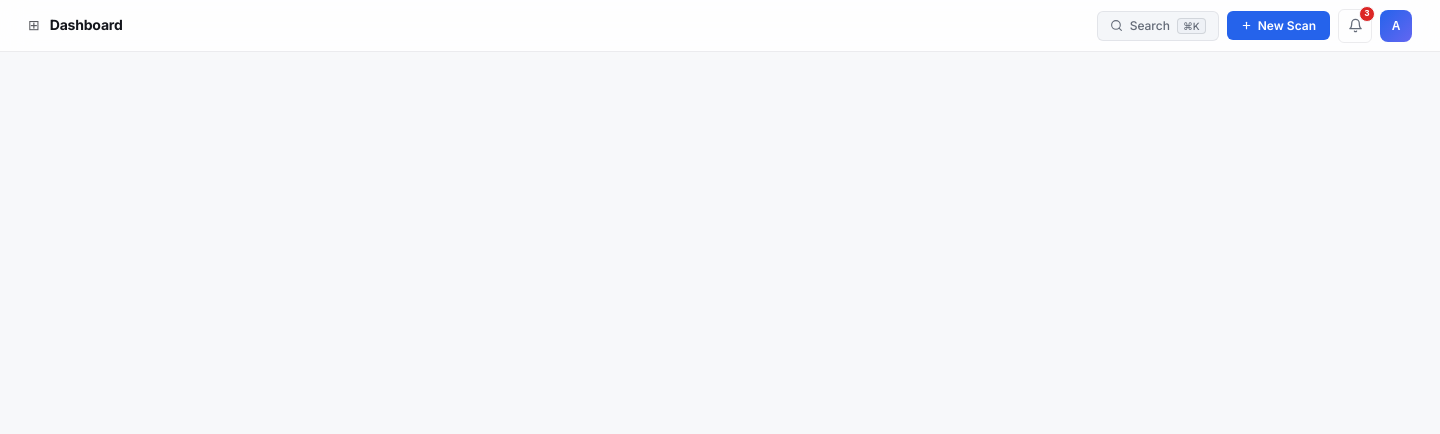
Test case: Clear all clears every notification, not just the last one
Step 1. Click the button named "Notifications, 3 unread" → (1355, 26), box [1338,8,1372,42]
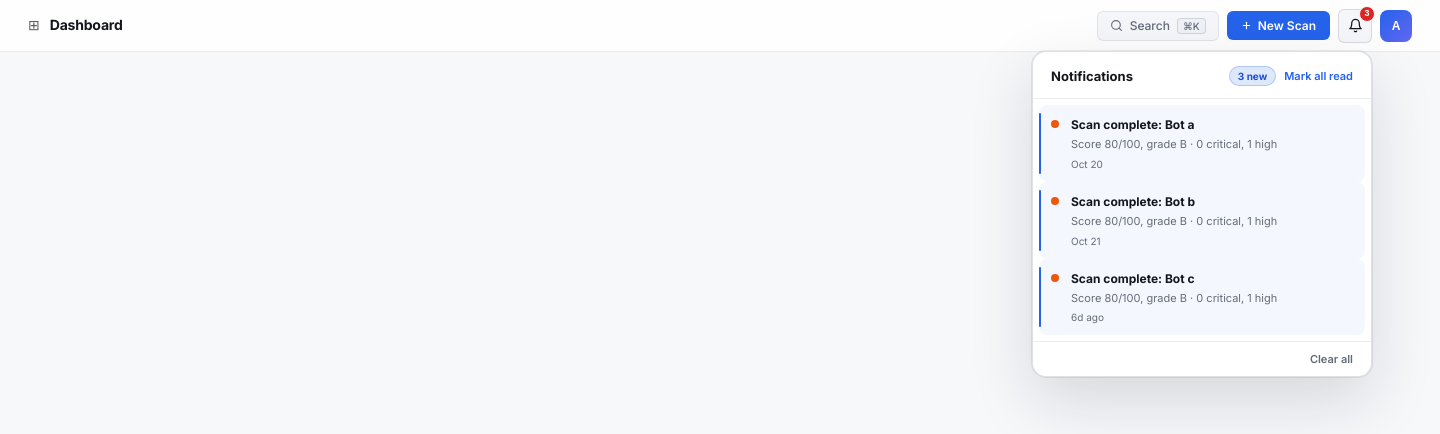
Result: the text "Scan complete: Bot a" is shown 3 times at [1071,115,1194,134]; [1071,192,1195,211]; [1071,269,1194,288]
Step 2. Click the button "Clear all" → (1331, 359), box [1310,352,1353,366]
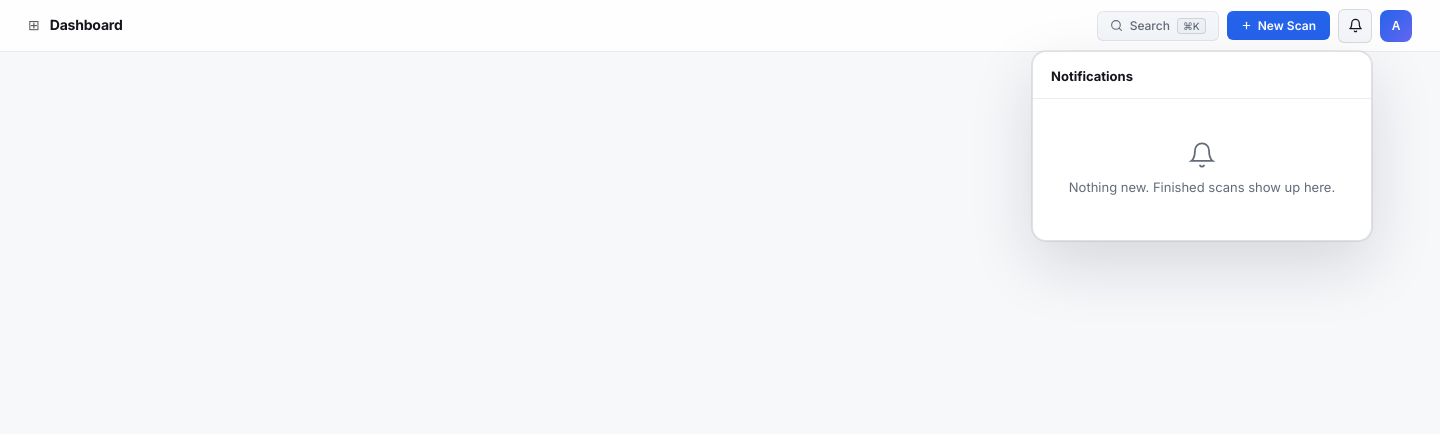
Expected: the button named "Notifications" is shown, [1338,8,1372,42]
Result: no buttons "Scan complete: Bot" are shown
Result: the text "Nothing new. Finished scans show up here." is shown at [1069,177,1335,198]
